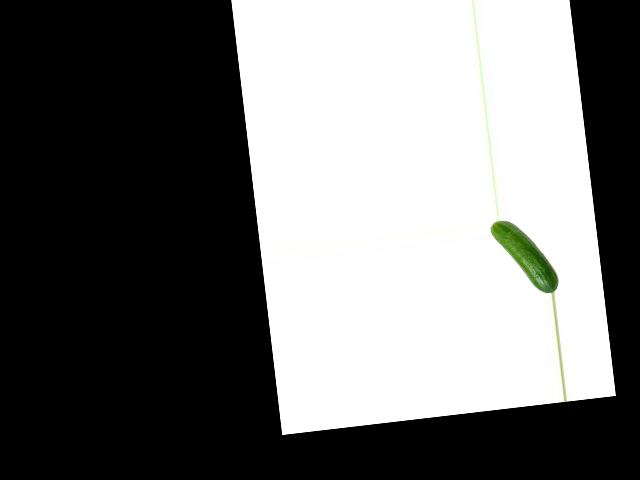cucumber: (490, 214, 560, 299)
